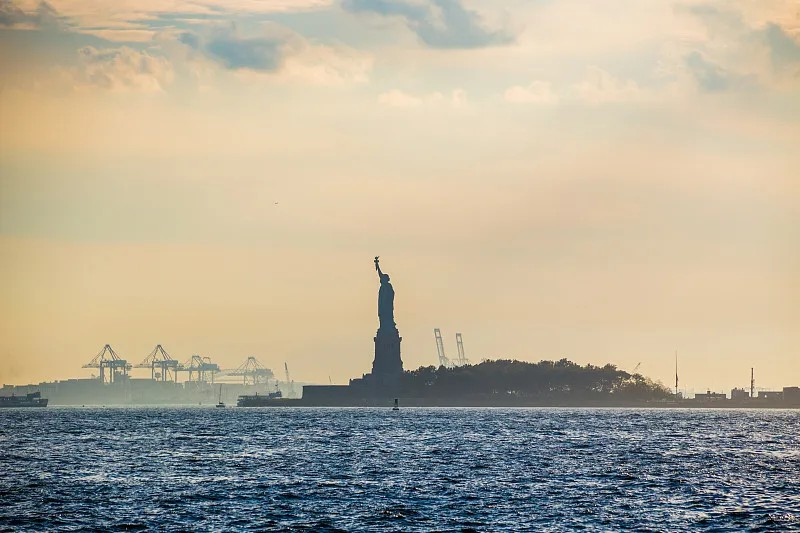SL: (371, 254, 403, 373)
